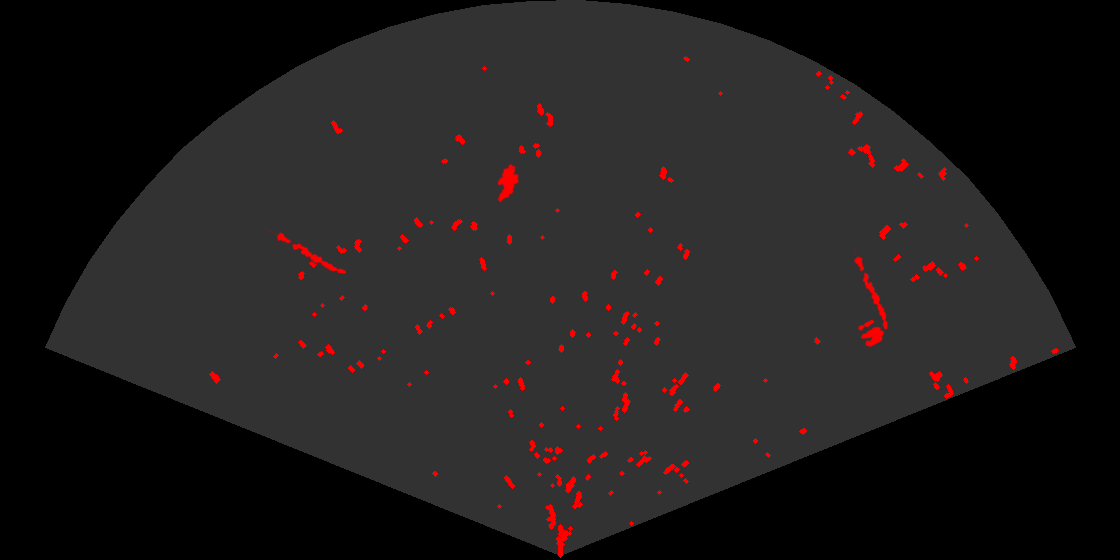AUV: (496, 162, 521, 204)
ball: (856, 318, 886, 349)
chain: (267, 227, 348, 276), (852, 249, 890, 332)
